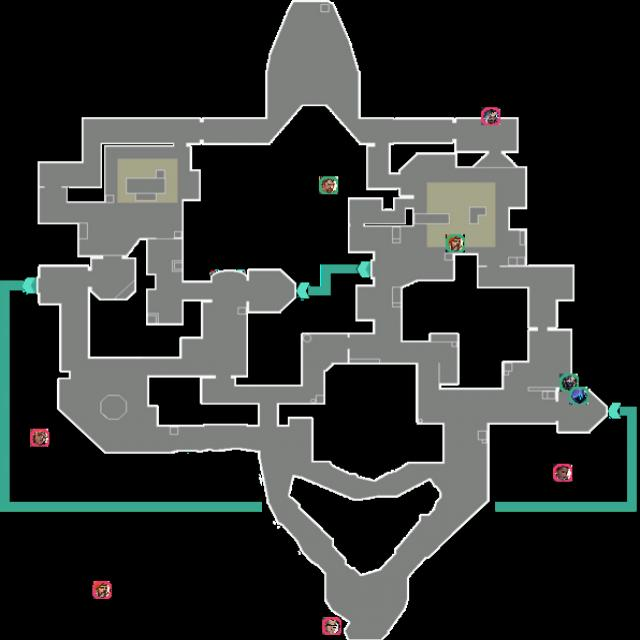atk_astra: (553, 464, 572, 482)
atk_brimstone: (92, 581, 112, 599)
atk_chamber: (322, 617, 342, 635)
atk_fade: (481, 107, 500, 125)
atk_raze: (30, 428, 49, 446)
def_breach: (319, 177, 338, 194)
def_brimstone: (446, 235, 465, 252)
def_omen: (569, 386, 589, 404)
def_viper: (559, 374, 579, 392)
